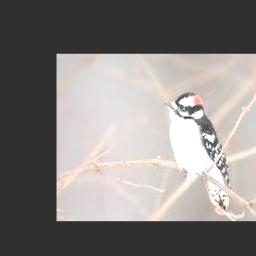Woodpecker: (164, 92, 231, 211)
